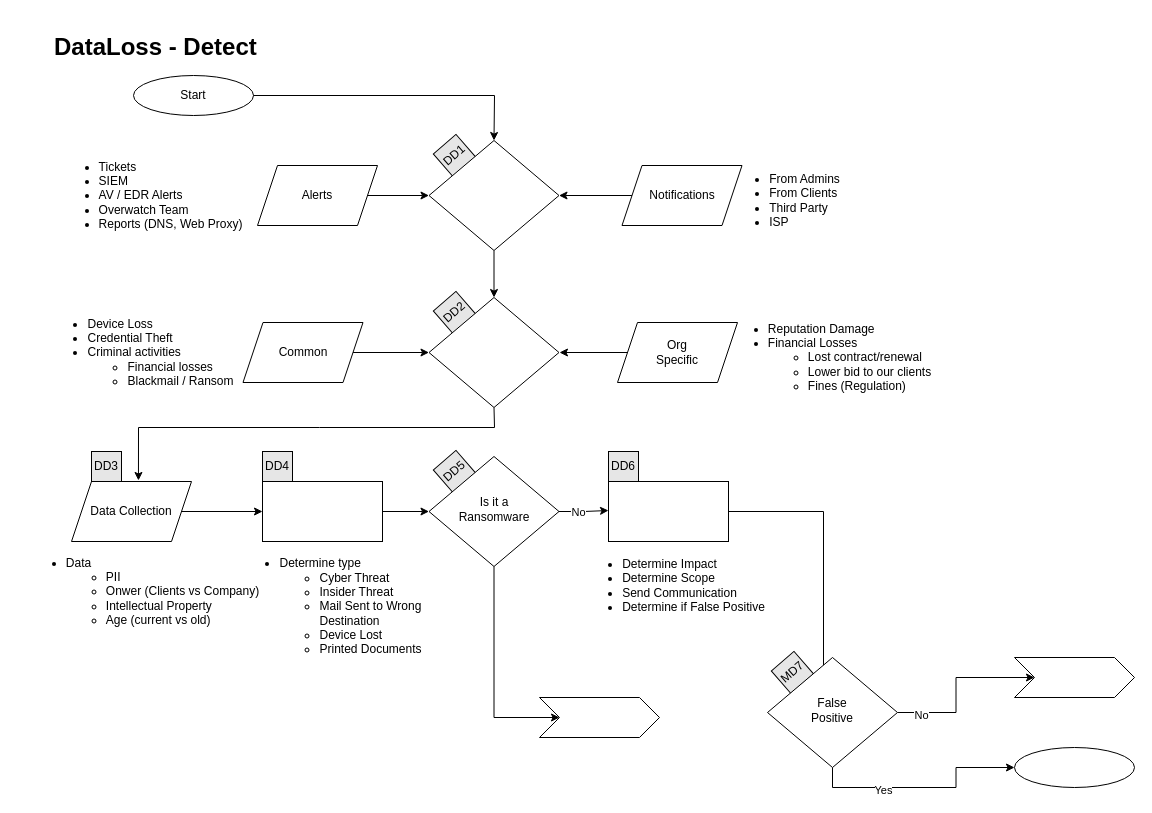
Some shapes in this 1152 by 813 pixel diagram are drawn without their labels. Each missing label, with the box of its shape:
Categorize: (262, 480, 382, 542)
Identify Risk Factors: (428, 296, 559, 408)
Identify Threat Indicators: (428, 140, 559, 250)
Next (Analyze): (1014, 656, 1134, 698)
Ransomware Playbook: (538, 696, 660, 738)
Stop: (1014, 746, 1134, 788)
Triage: (608, 480, 728, 542)
